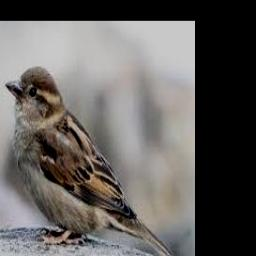Sparrow: (7, 66, 178, 256)
